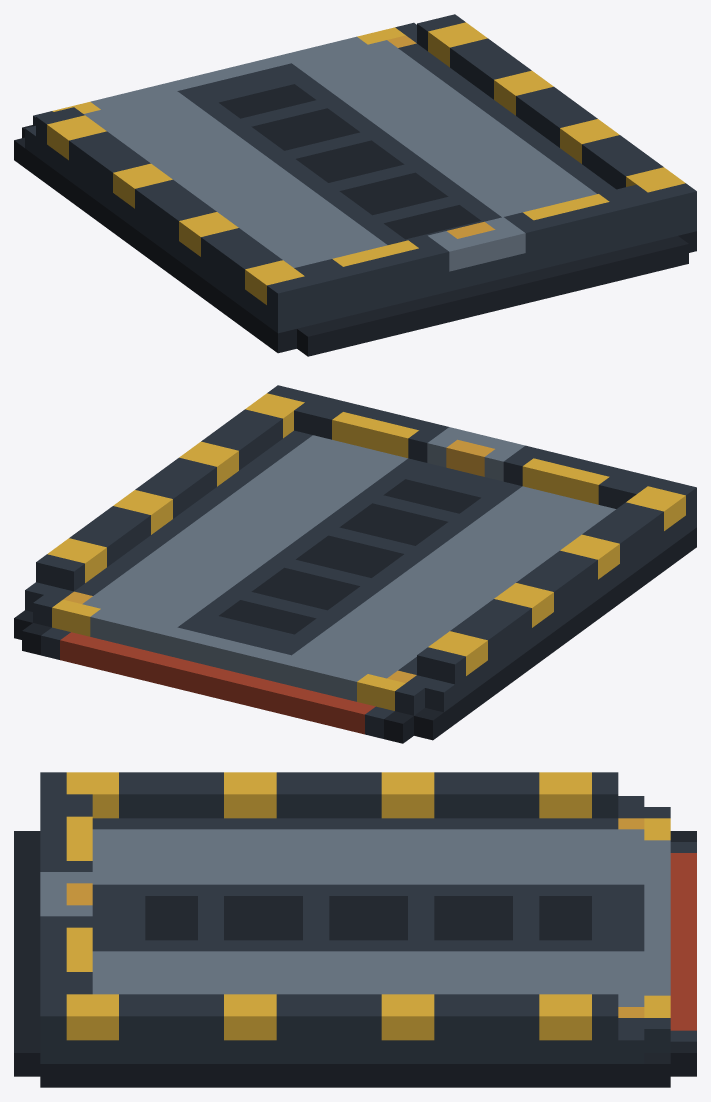
Rendered from rover_docking_pad.glb.
The picture shows the model from 3 angles, top to bottom: view 1: azimuth 30°, elevation 25°; view 2: azimuth 150°, elevation 25°; view 3: azimuth 270°, elevation 25°; orthographic projection. The views are drawn at different scales.
Parts seen in each view (by area): view 1: prop; view 2: prop; view 3: prop.
Part boxes in pixels (bbox=[...]): prop: bbox=[14, 14, 696, 356]; prop: bbox=[14, 385, 696, 743]; prop: bbox=[14, 772, 696, 1087].
Size of the model in its own units: 22 by 3 by 26.
